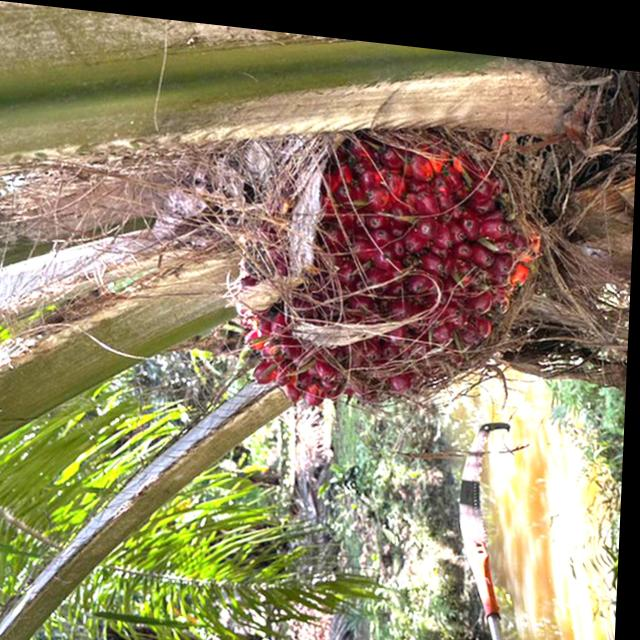ripe: (212, 91, 556, 433)
